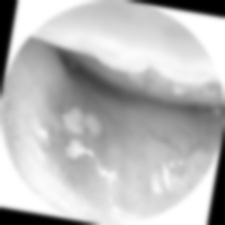Ulcer: (47, 100, 108, 169)
